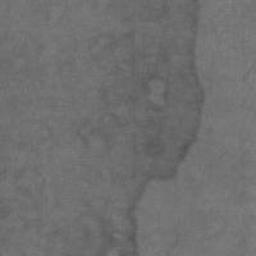Water spot: (0, 0, 209, 256)
